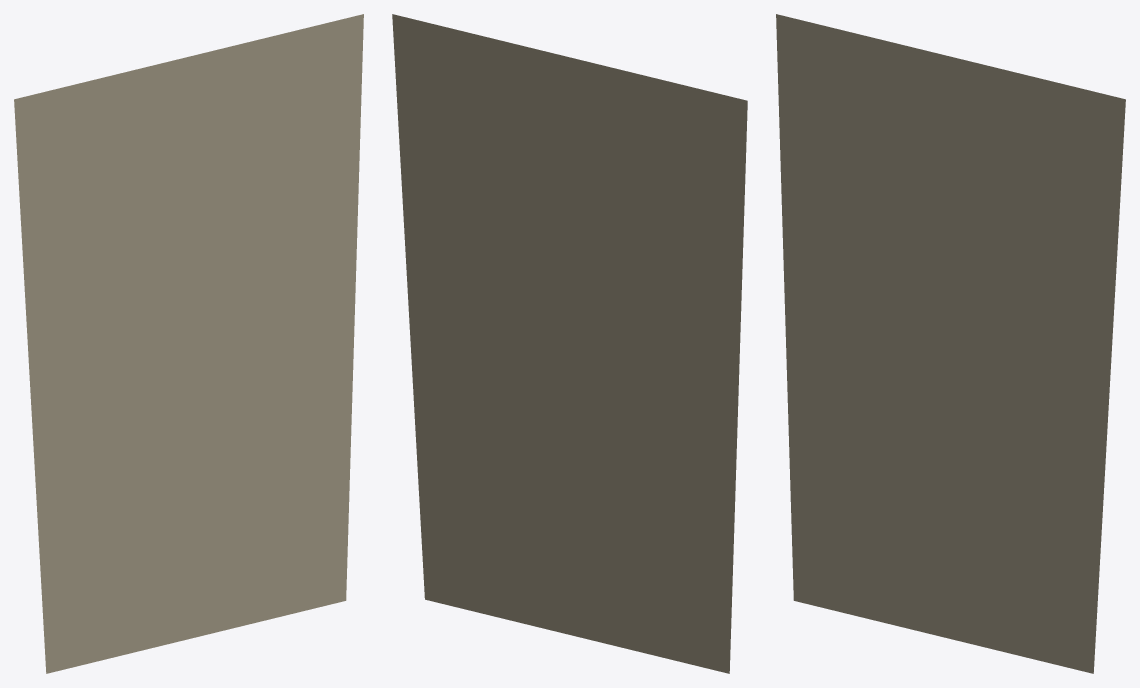
The model's file is wk_shell_waist_apron_v01.glb.
The picture shows the model from 3 angles, left to right: view 1: azimuth 30°, elevation 25°; view 2: azimuth 150°, elevation 25°; view 3: azimuth 330°, elevation 25°; orthographic projection.
Parts seen in each view (by area): view 1: GEO_Apron; view 2: GEO_Apron; view 3: GEO_Apron.
Part boxes in pixels (x1,y1,x2,y2): GEO_Apron: [14, 14, 363, 673]; GEO_Apron: [392, 14, 747, 673]; GEO_Apron: [776, 14, 1125, 673].
Bounding box in the file's own units: 0.42 × 0.66 × 0.015.
